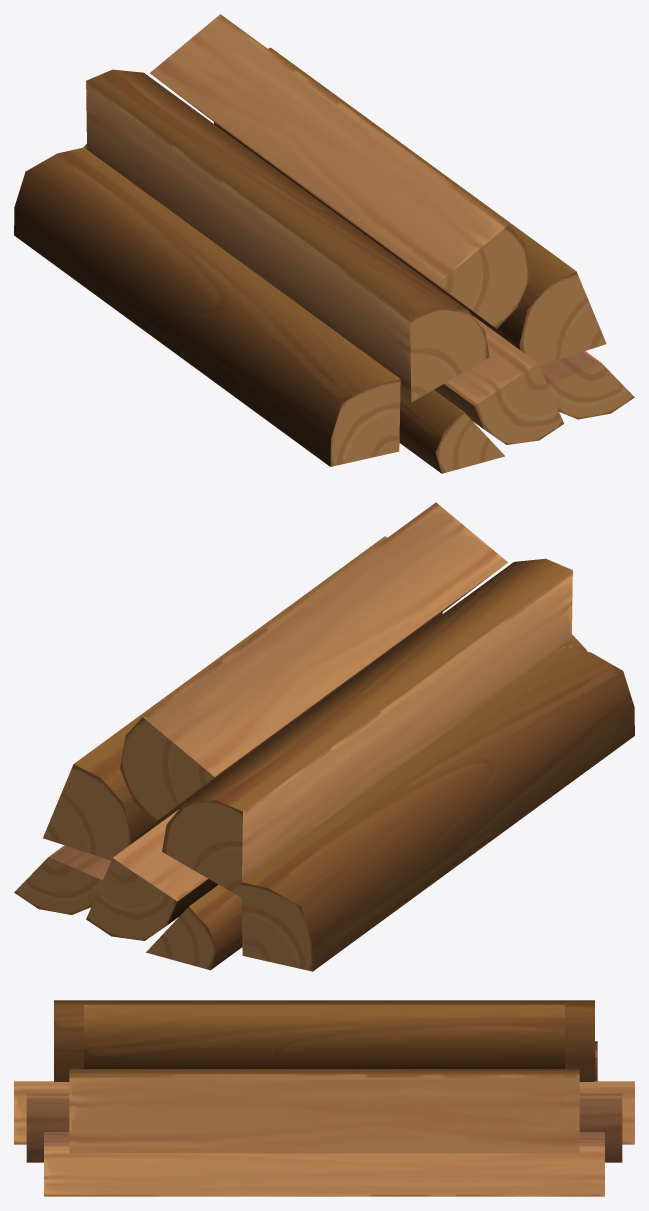
Rendered from chaidui01.FBX.
3 views of the same model, one above another, from view 1: azimuth 30°, elevation 25°; view 2: azimuth 150°, elevation 25°; view 3: azimuth 270°, elevation 25° (orthographic). The views are drawn at different scales.
Visible parts, largest first — view 1: objmuchaidui; view 2: objmuchaidui; view 3: objmuchaidui.
Part boxes in pixels (bbox=[...]): objmuchaidui: bbox=[14, 14, 634, 473]; objmuchaidui: bbox=[14, 502, 634, 971]; objmuchaidui: bbox=[14, 1000, 634, 1196].
Size of the model in its own units: 2.73 by 1.73 by 6.08.
